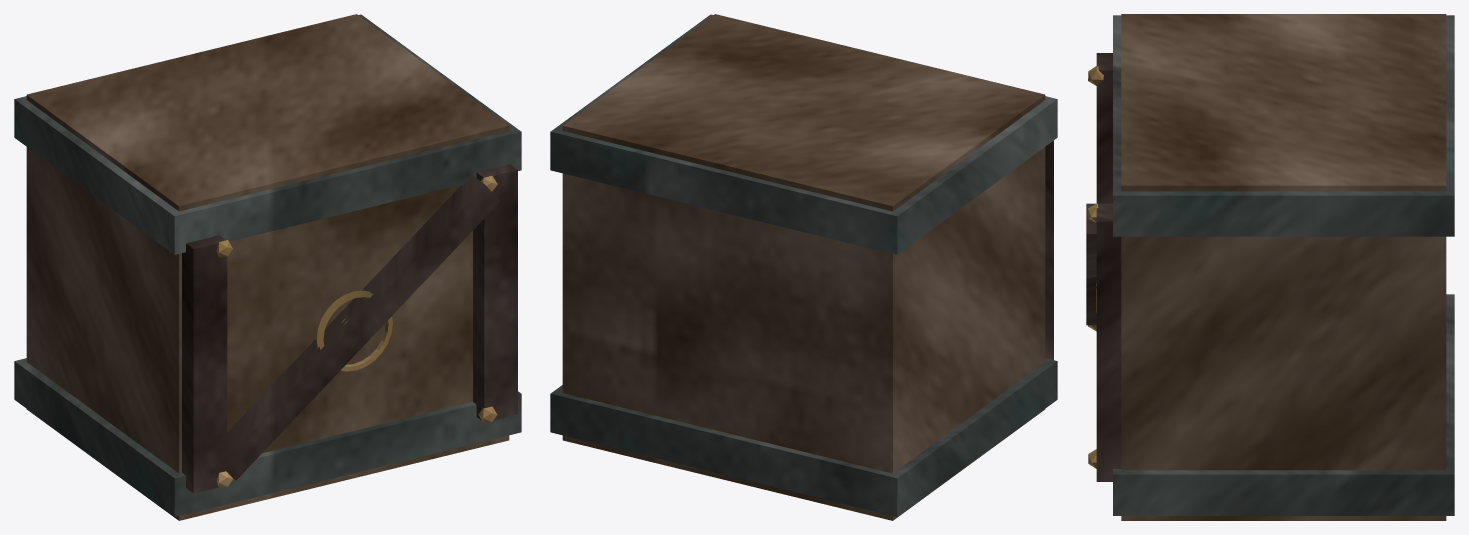
Rendered from 0731_supply_crate_06.glb.
3 views of the same model, side by side, from view 1: azimuth 30°, elevation 25°; view 2: azimuth 150°, elevation 25°; view 3: azimuth 270°, elevation 25° (orthographic). The views are drawn at different scales.
Visible parts, largest first — view 1: wood, iron, wood_dark, brass; view 2: wood, iron, wood_dark; view 3: wood, iron, wood_dark, brass.
Part boxes in pixels (<box>): wood: <box>26,14,509,520</box>; iron: <box>14,14,521,516</box>; wood_dark: <box>182,164,517,493</box>; brass: <box>216,176,497,487</box>; wood: <box>562,14,1045,520</box>; iron: <box>550,14,1057,516</box>; wood_dark: <box>1045,140,1053,359</box>; wood: <box>1121,14,1446,520</box>; iron: <box>1113,15,1454,515</box>; wood_dark: <box>1086,53,1121,481</box>; brass: <box>1088,66,1103,468</box>.
Size of the model in its own units: 1.03 by 0.8957 by 0.8911.
Materials: 4 (4 with a texture image).
